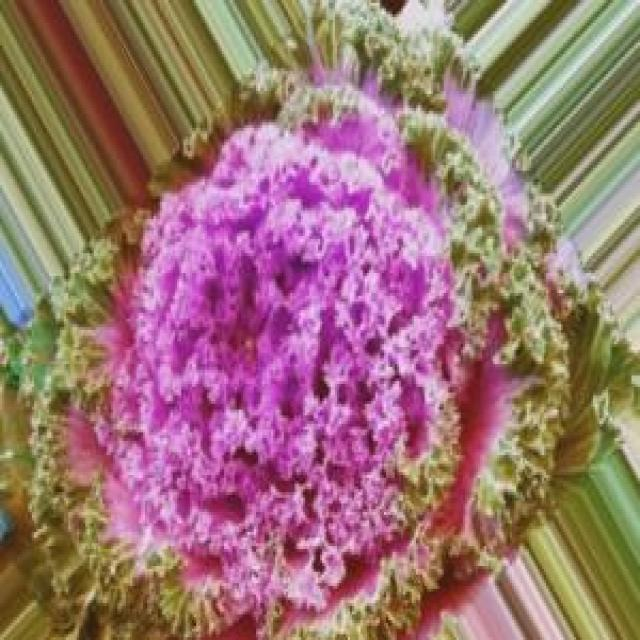Healthy: (16, 58, 594, 640)
